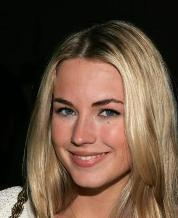face: (53, 96, 120, 169)
